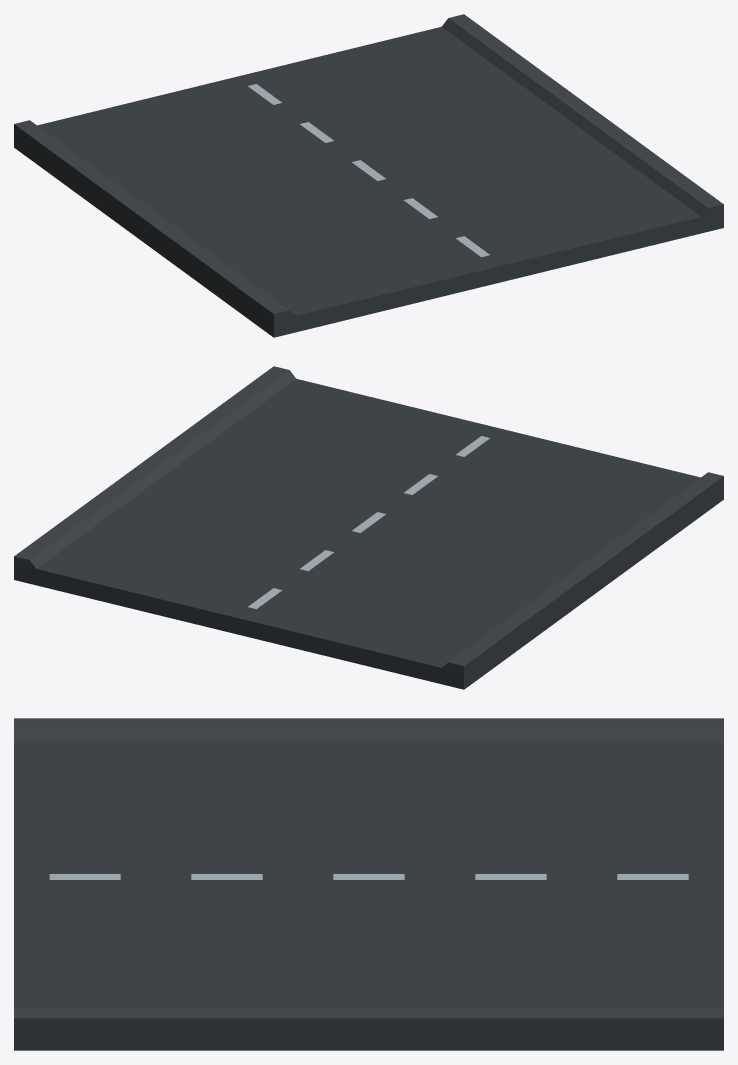
Rendered from road_straight.obj.
3 views of the same model, one above another, from view 1: azimuth 30°, elevation 25°; view 2: azimuth 150°, elevation 25°; view 3: azimuth 270°, elevation 25° (orthographic). The views are drawn at different scales.
Visible parts, largest first — view 1: road_straight_Cube.952; view 2: road_straight_Cube.952; view 3: road_straight_Cube.952.
Boxes of the visible parts, x1,y1,x2,y2 form: road_straight_Cube.952: [14, 14, 723, 337]; road_straight_Cube.952: [14, 366, 723, 689]; road_straight_Cube.952: [14, 718, 723, 1050].
Size of the model in its own units: 2 by 0.1 by 2.
